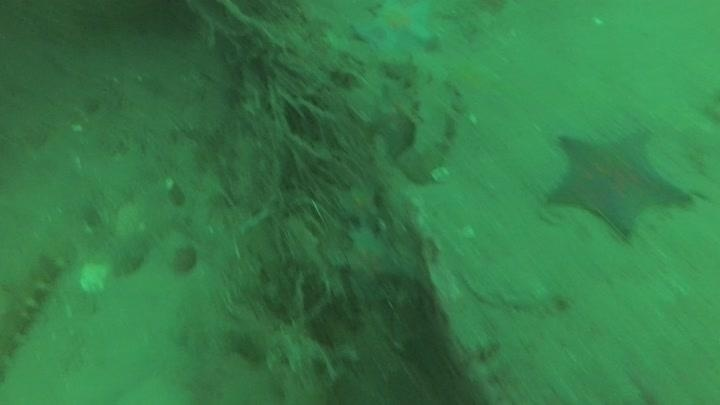holothurian: (391, 51, 461, 183), (1, 245, 66, 364)
starfish: (540, 119, 698, 241), (350, 1, 441, 63), (339, 224, 411, 295), (335, 179, 383, 227)
